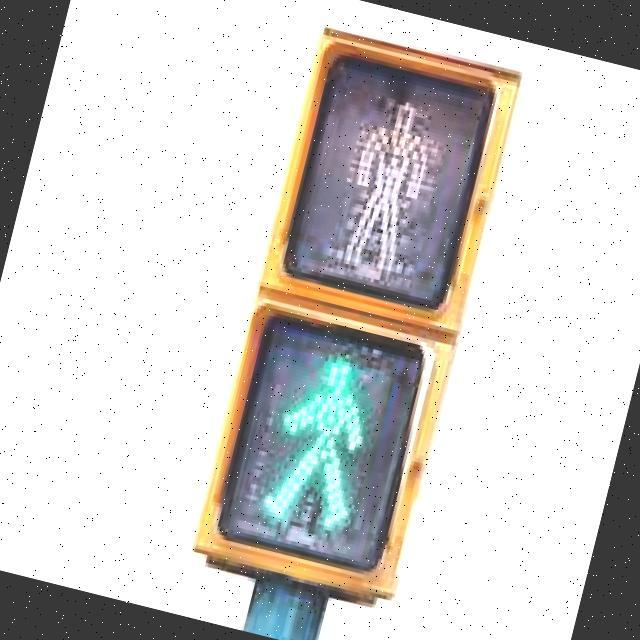green_light: (256, 342, 388, 539)
